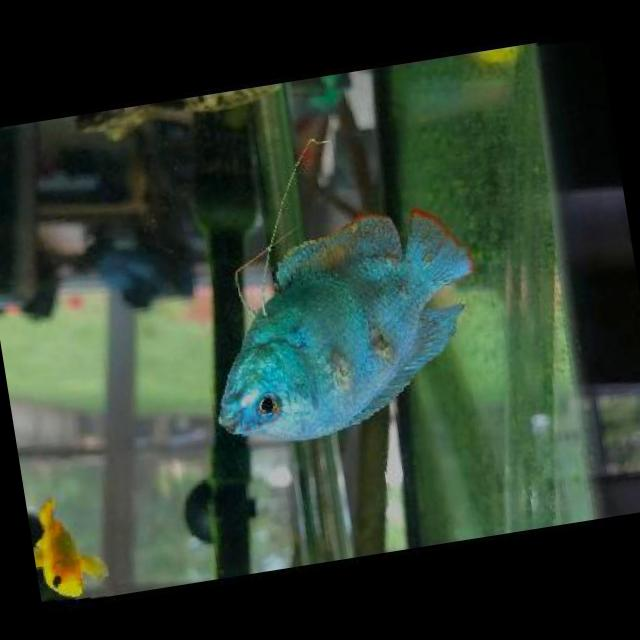Gourami: (190, 199, 494, 462)
